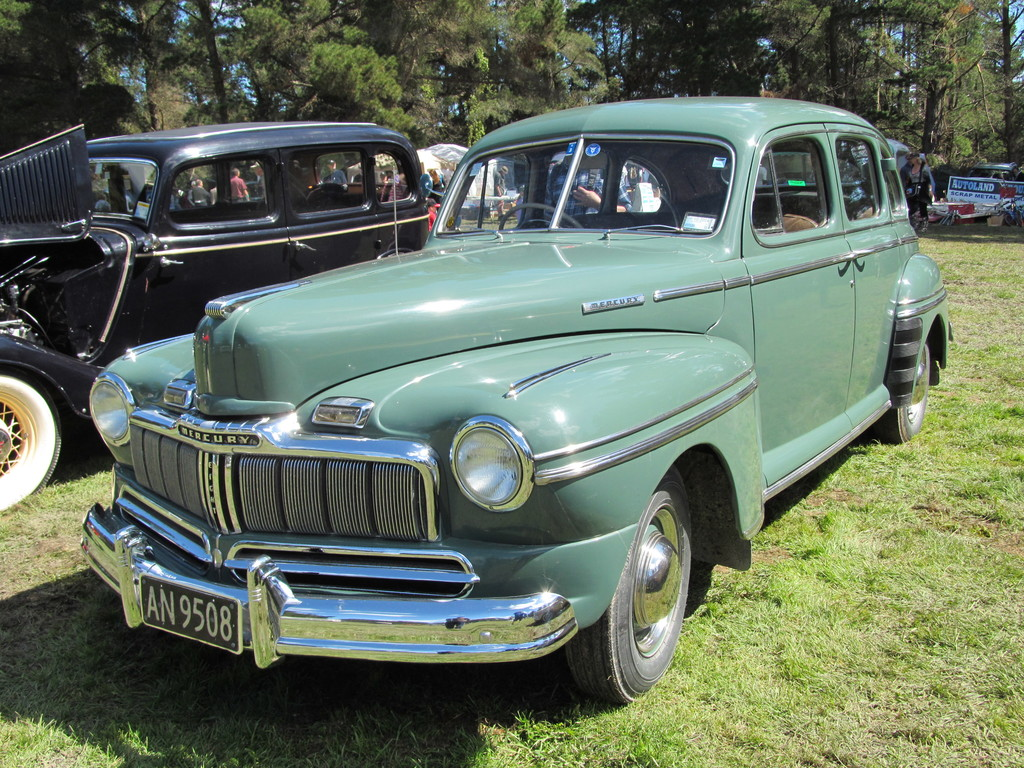Car: (77, 96, 950, 705), (0, 122, 426, 520)
